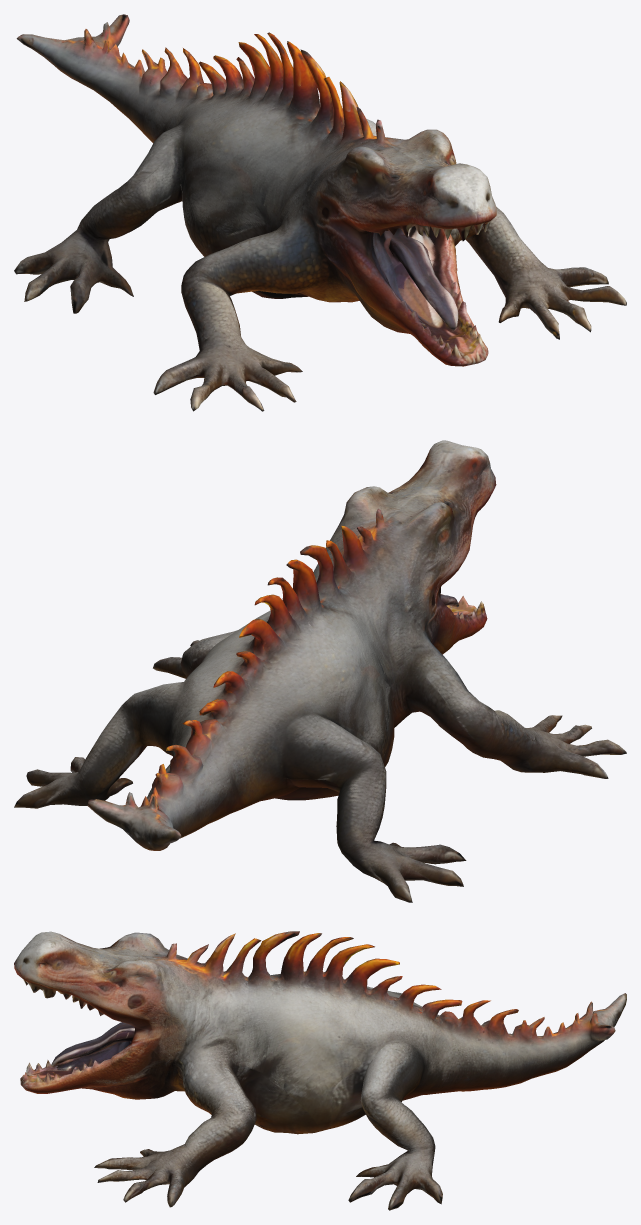
The model's file is Fire_armored_lizard_w_0815190158_texture.fbx.
3 views of the same model, one above another, from view 1: azimuth 30°, elevation 25°; view 2: azimuth 150°, elevation 25°; view 3: azimuth 270°, elevation 25° (orthographic). The views are drawn at different scales.
Visible parts, largest first — view 1: Mesh1.0; view 2: Mesh1.0; view 3: Mesh1.0.
Part boxes in pixels (bbox=[...]): Mesh1.0: bbox=[14, 14, 626, 411]; Mesh1.0: bbox=[14, 440, 626, 902]; Mesh1.0: bbox=[14, 931, 626, 1210].
Size of the model in its own units: 139 by 70.41 by 200.
Materials: 1 (1 with a texture image).
